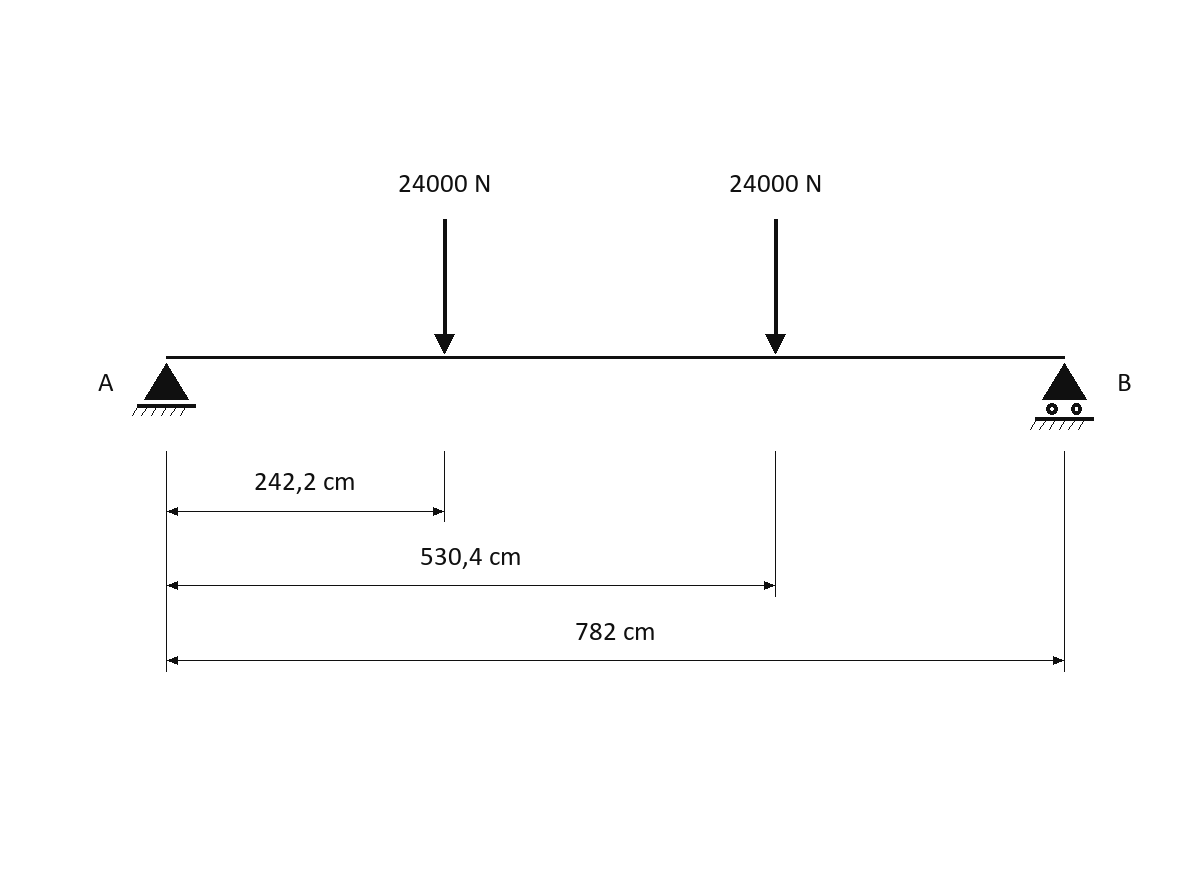pin_support: (132, 363, 196, 416)
point_load: (434, 219, 455, 354), (765, 219, 786, 354)
roller_support: (1030, 363, 1094, 430)
